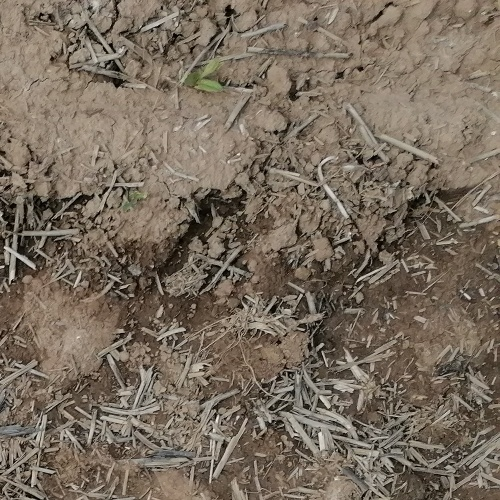beet: (184, 55, 228, 95)
